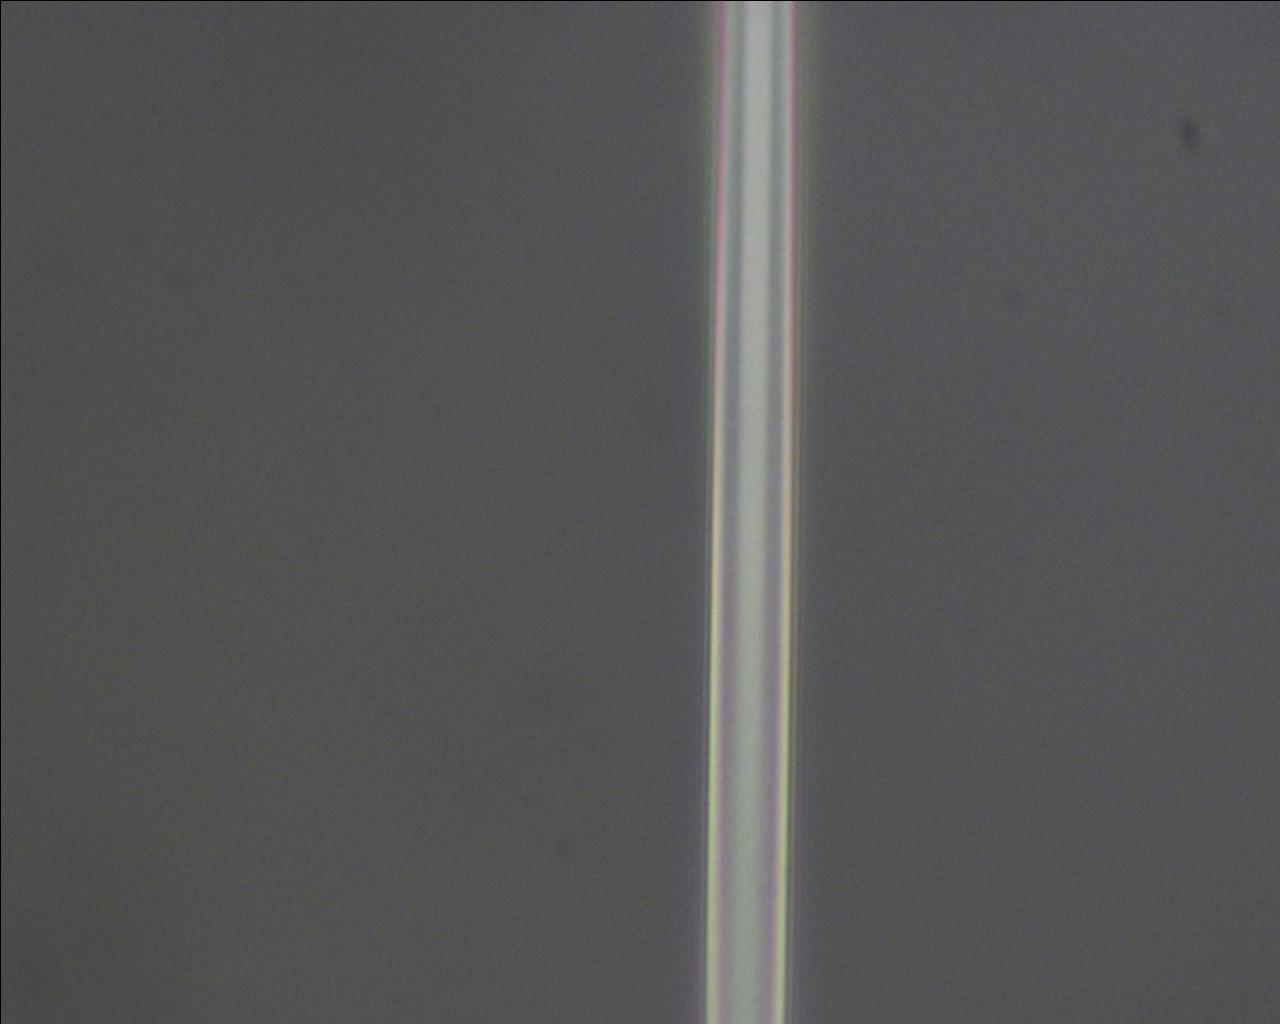fiber: (0, 137, 1280, 1024)
